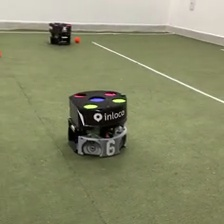ball: (74, 36, 81, 43)
robot: (65, 88, 129, 158), (47, 21, 72, 45)
